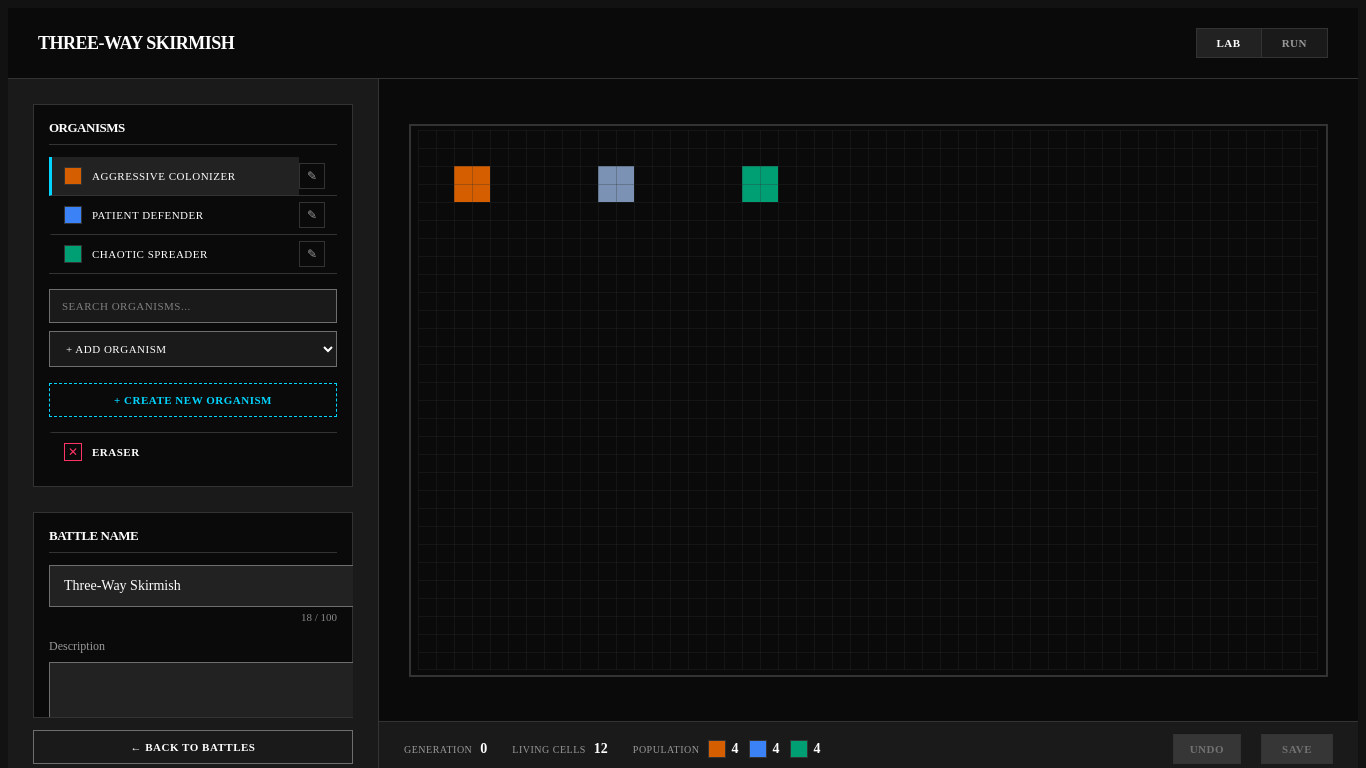
BattlePage — edit organism from battle (Story 4.24) › N ≥ 1 opens the two-button battle gate first, not the editor (AC3, AC5)
Expected: the heading "Three-Way Skirmish" is shown, [38,32,234,54]
Click the button named "Edit Aggressive Colonizer".
click(312, 176)  # box [299,163,325,189]
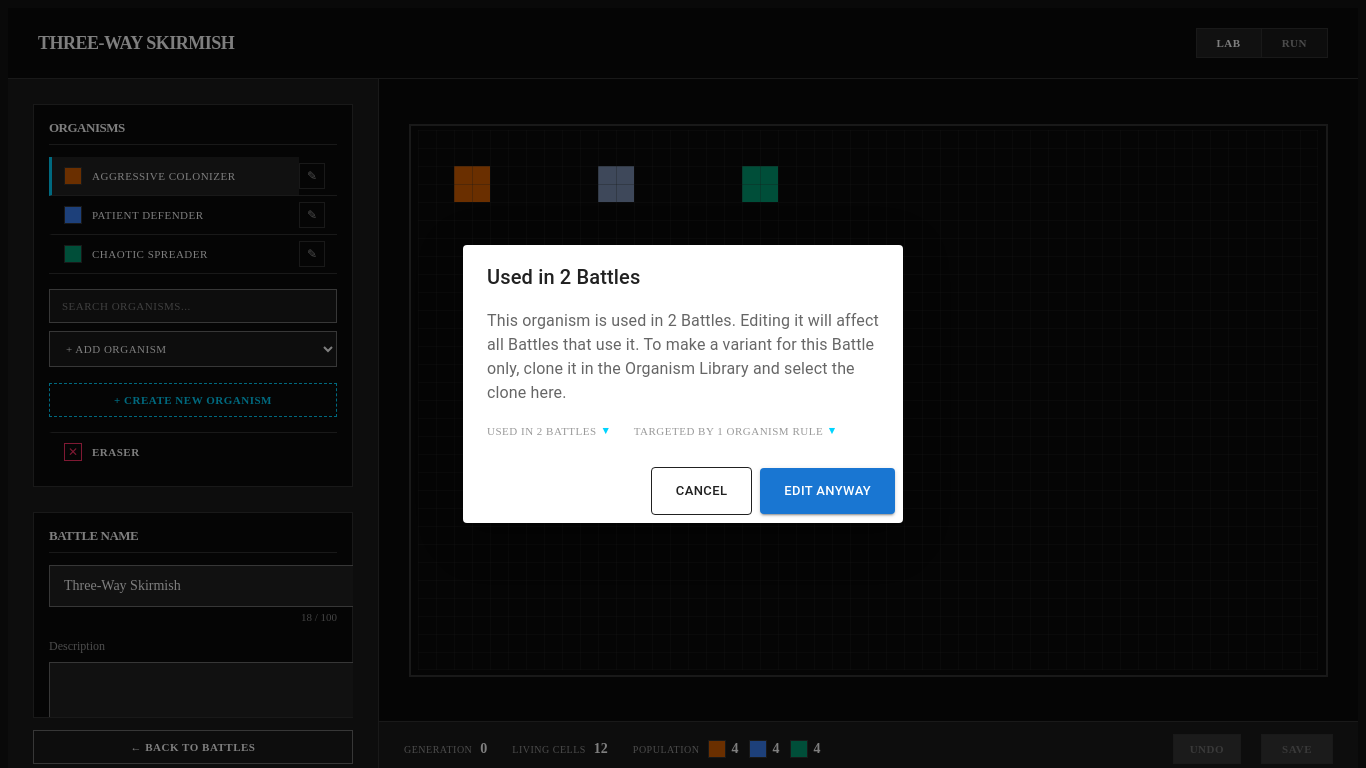
Now the dialog "Used in 2 Battles" shows "clone it in the Organism Library and select the clone here.", box [487,311,879,402]
